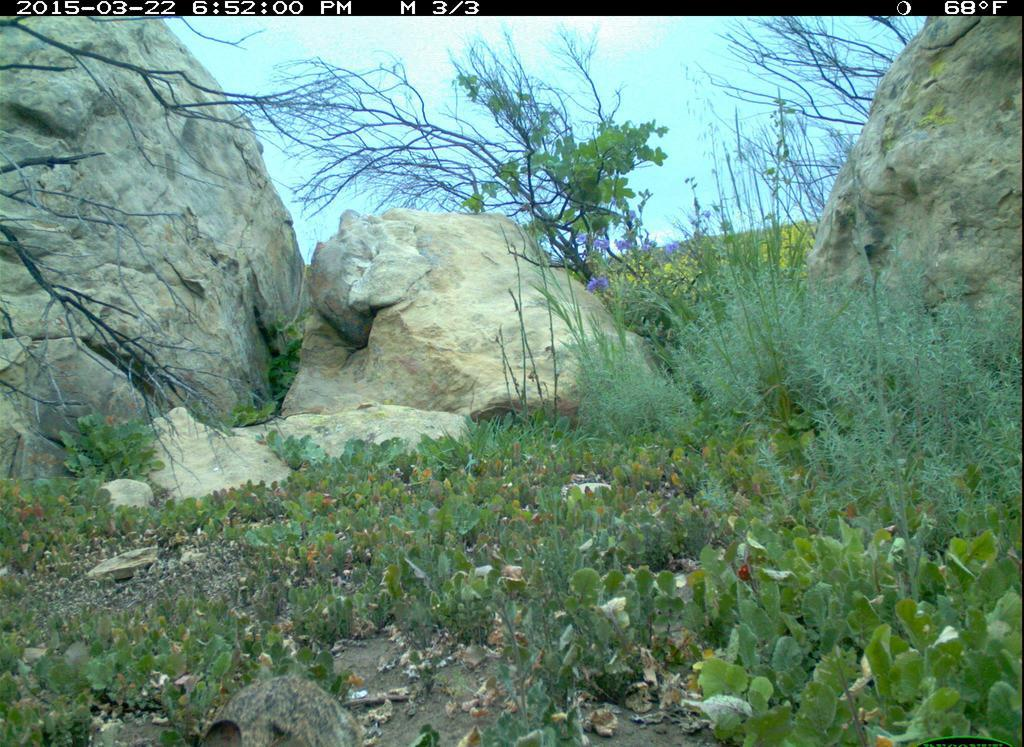rabbit: (171, 664, 361, 740)
